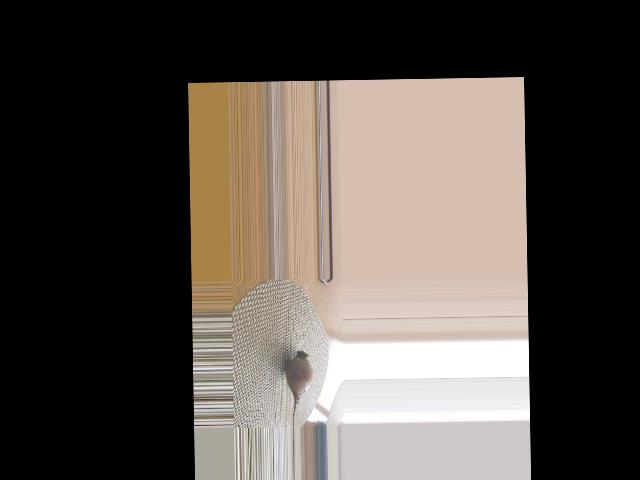beet: (285, 350, 314, 426)
